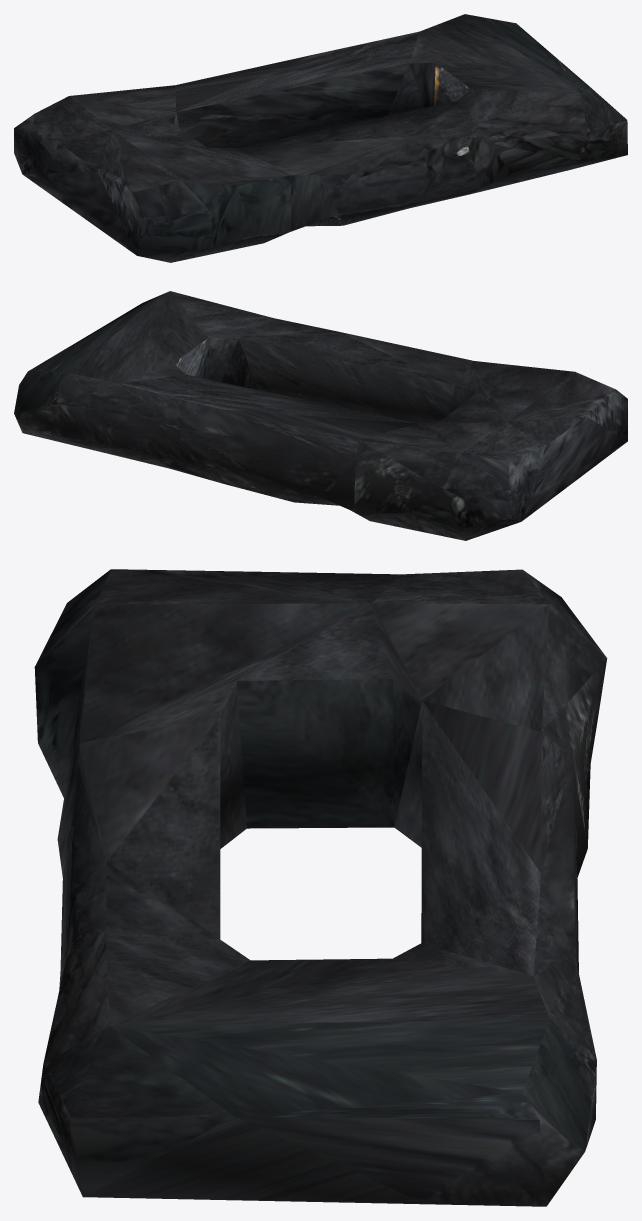
File: Base_levier.glb
3 views of the same model, one above another, from view 1: azimuth 30°, elevation 25°; view 2: azimuth 150°, elevation 25°; view 3: azimuth 270°, elevation 25° (orthographic). The views are drawn at different scales.
Parts seen in each view (by area): view 1: Meshy_Mesh_0.002; view 2: Meshy_Mesh_0.002; view 3: Meshy_Mesh_0.002.
Part boxes in pixels (box(x1,y1,x2,y2)): Meshy_Mesh_0.002: box(14, 14, 627, 262); Meshy_Mesh_0.002: box(14, 291, 627, 540); Meshy_Mesh_0.002: box(34, 569, 607, 1206).
Size of the model in its own units: 1.31 by 0.2257 by 0.6515.
1 material, 1 textured.
